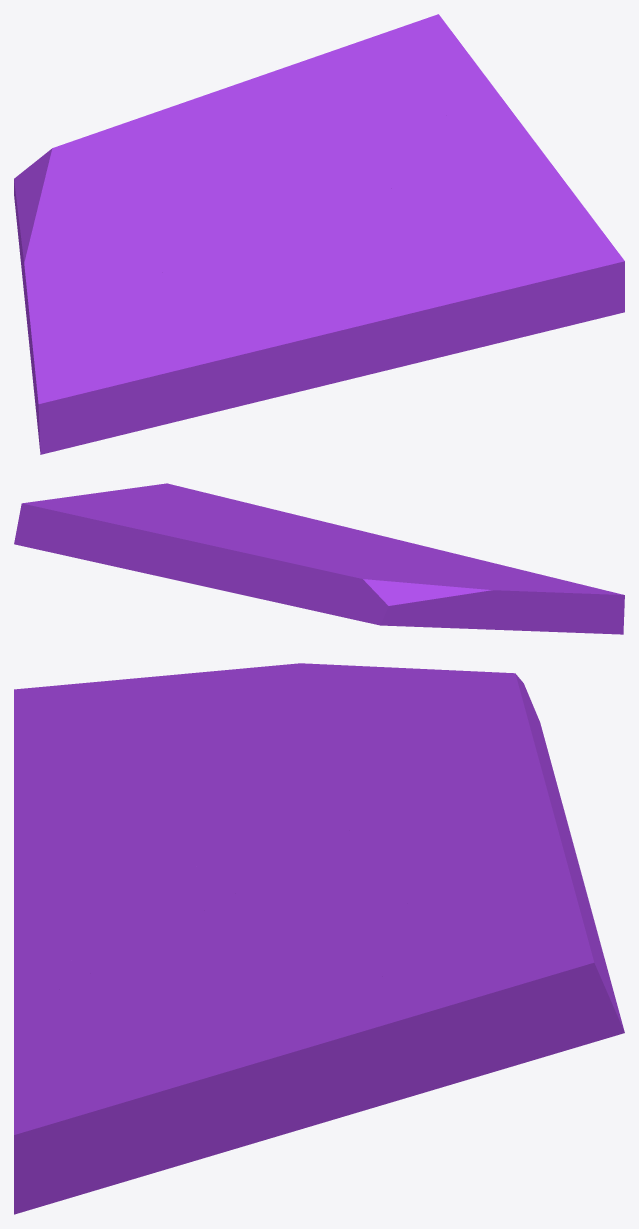
The model's file is Window_154_0_chunks.fbx.
3 views of the same model, one above another, from view 1: azimuth 30°, elevation 25°; view 2: azimuth 150°, elevation 25°; view 3: azimuth 270°, elevation 25° (orthographic). The views are drawn at different scales.
Parts seen in each view (by area): view 1: Window_154_0_7, Window_154_0_9, Window_154_0_14, Window_154_0_11, Window_154_0_6, Window_154_0_16, Window_154_0_4, Window_154_0_0, Window_154_0_18, Window_154_0_17, Window_154_0_3, Window_154_0_1 (+4 smaller); view 2: Window_154_0_17, Window_154_0_7, Window_154_0_2, Window_154_0_3, Window_154_0_1, Window_154_0_16, Window_154_0_11, Window_154_0_9, Window_154_0_14, Window_154_0_6, Window_154_0_4, Window_154_0_18 (+3 smaller); view 3: Window_154_0_7, Window_154_0_11, Window_154_0_14, Window_154_0_12, Window_154_0_17, Window_154_0_9, Window_154_0_16, Window_154_0_6, Window_154_0_18, Window_154_0_4, Window_154_0_0, Window_154_0_3 (+4 smaller).
Part boxes in pixels (left/top/right/bottom): Window_154_0_7: left=26, top=256, right=237, bottom=454; Window_154_0_9: left=218, top=255, right=469, bottom=401; Window_154_0_14: left=455, top=196, right=624, bottom=345; Window_154_0_11: left=388, top=72, right=534, bottom=223; Window_154_0_6: left=232, top=170, right=482, bottom=350; Window_154_0_16: left=217, top=74, right=362, bottom=181; Window_154_0_4: left=127, top=91, right=233, bottom=240; Window_154_0_0: left=200, top=176, right=466, bottom=305; Window_154_0_18: left=342, top=54, right=482, bottom=183; Window_154_0_17: left=267, top=14, right=468, bottom=107; Window_154_0_3: left=16, top=203, right=159, bottom=313; Window_154_0_1: left=14, top=121, right=150, bottom=213; Window_154_0_17: left=14, top=500, right=181, bottom=581; Window_154_0_7: left=416, top=557, right=624, bottom=634; Window_154_0_2: left=217, top=548, right=398, bottom=626; Window_154_0_3: left=378, top=565, right=514, bottom=629; Window_154_0_1: left=295, top=561, right=425, bottom=625; Window_154_0_16: left=167, top=525, right=287, bottom=589; Window_154_0_11: left=57, top=493, right=232, bottom=521; Window_154_0_9: left=303, top=516, right=467, bottom=557; Window_154_0_14: left=133, top=483, right=277, bottom=513; Window_154_0_6: left=218, top=510, right=293, bottom=548; Window_154_0_4: left=217, top=546, right=395, bottom=568; Window_154_0_18: left=45, top=498, right=228, bottom=525; Window_154_0_7: left=14, top=667, right=270, bottom=840; Window_154_0_11: left=169, top=941, right=474, bottom=1075; Window_154_0_14: left=14, top=1001, right=191, bottom=1214; Window_154_0_12: left=81, top=1049, right=474, bottom=1194; Window_154_0_17: left=456, top=834, right=624, bottom=1076; Window_154_0_9: left=14, top=818, right=186, bottom=1002; Window_154_0_16: left=298, top=797, right=585, bottom=920; Window_154_0_6: left=14, top=817, right=383, bottom=1026; Window_154_0_18: left=281, top=896, right=500, bottom=1077; Window_154_0_4: left=280, top=737, right=550, bottom=818; Window_154_0_0: left=14, top=797, right=371, bottom=1014; Window_154_0_3: left=251, top=663, right=411, bottom=767.
Size of the model in its own units: 1205 by 318 by 698.
